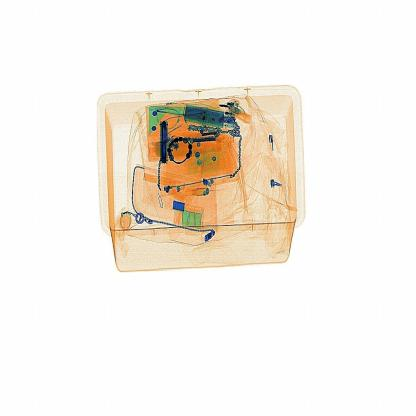scissors: (154, 111, 176, 174)
